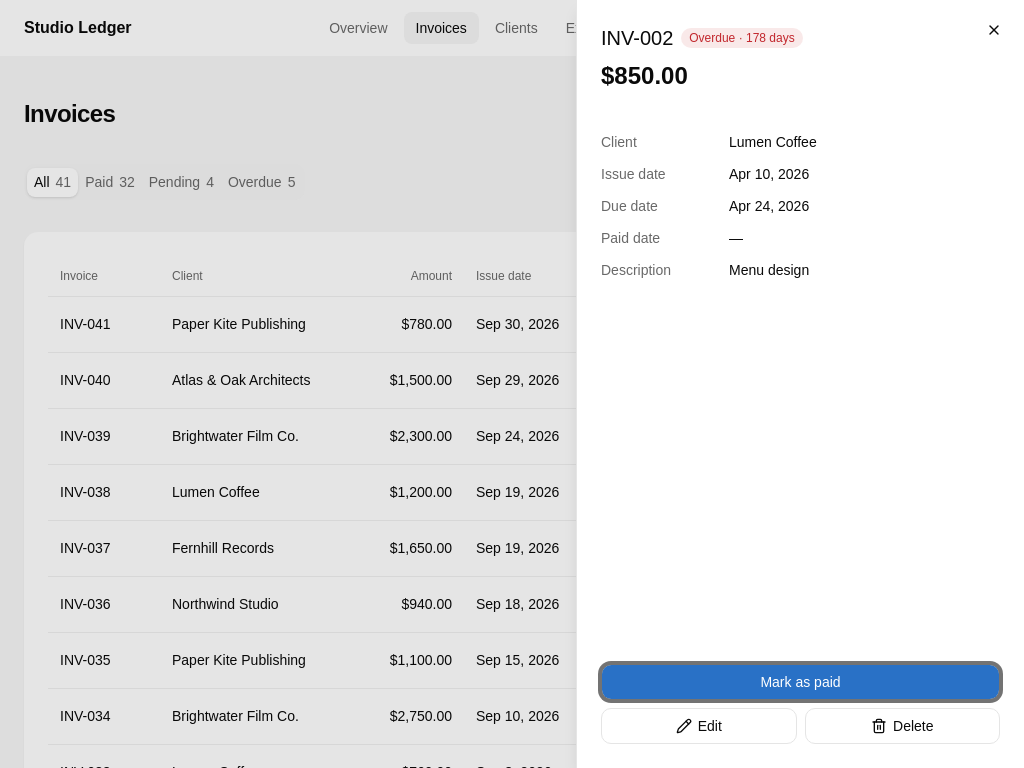
Test: Invoices › rejects a paid date before the issue date
This screenshot has width=1024, height=768.
Click the button "Mark as paid". click: [800, 682]
box: 601,664 -> 1000,700
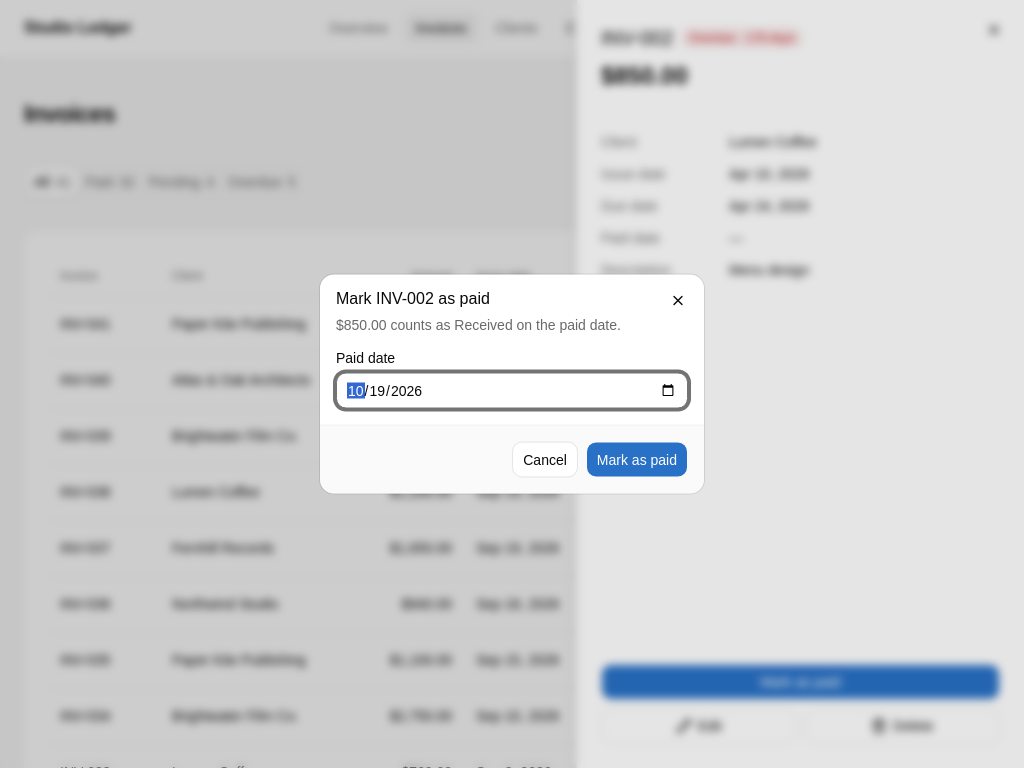
Type "2026-04-01" into the date field labelled "Paid date". click: [512, 390]
box: 336,372 -> 688,408
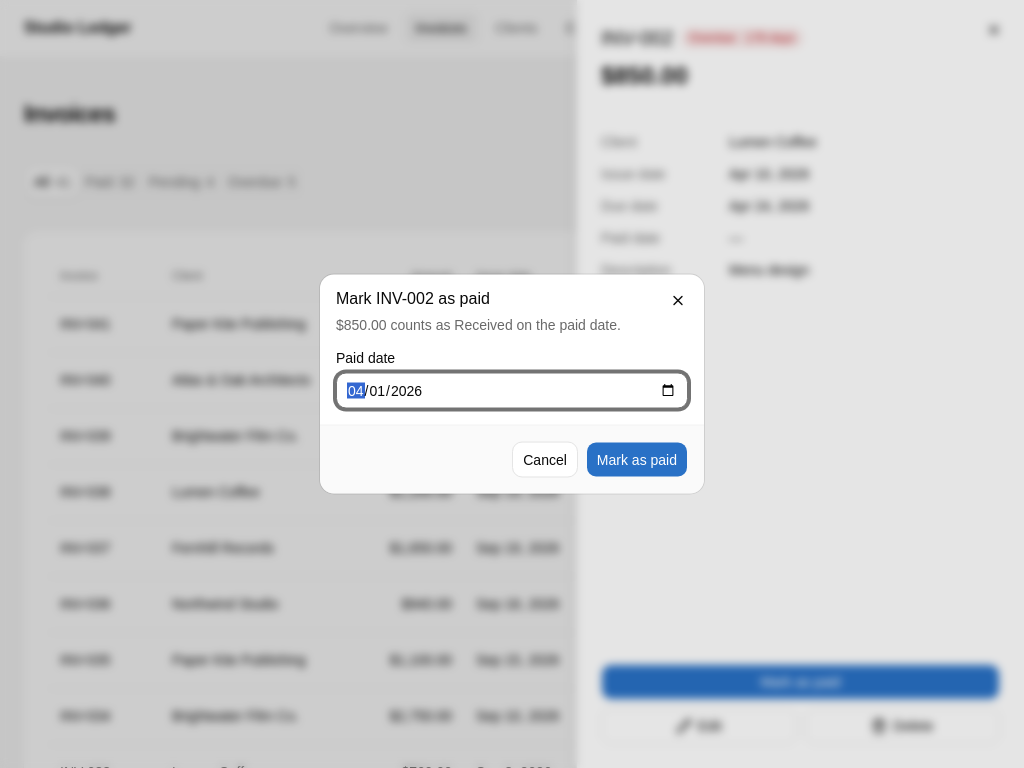
Click the button "Mark as paid". click: [637, 460]
box: 586,442 -> 688,478
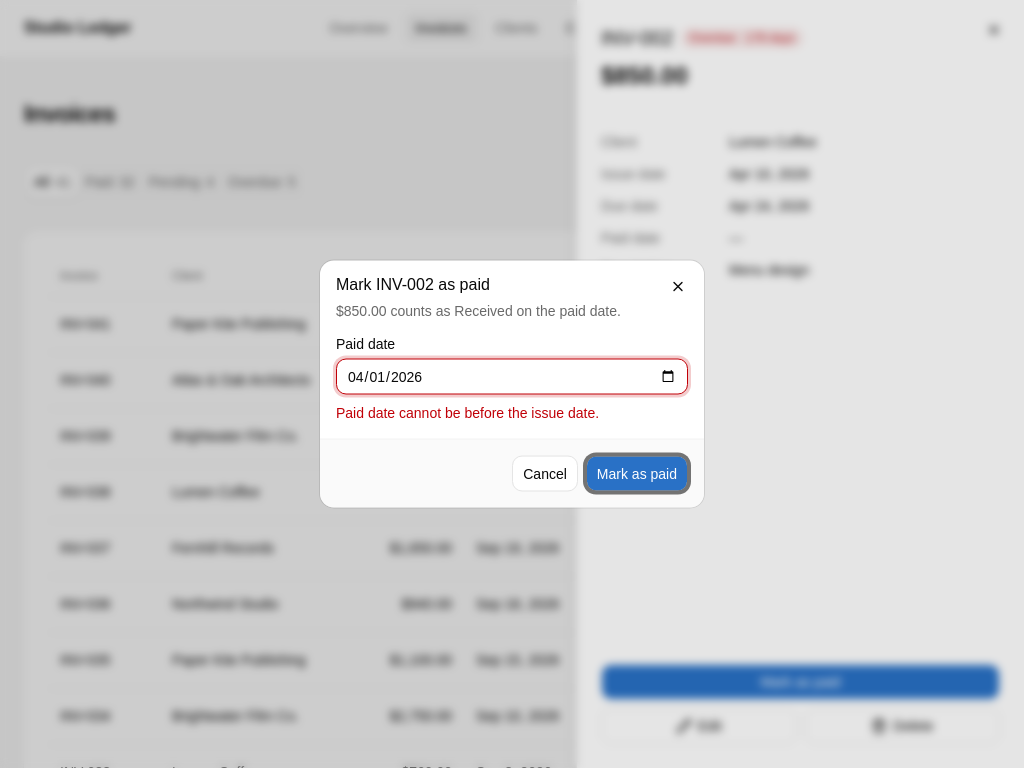
Expected: the message reads "Paid date cannot be before the issue date.", 336,404 -> 599,420
